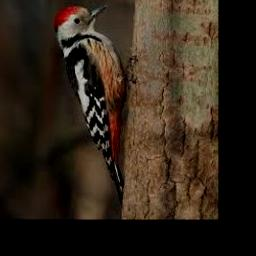Woodpecker: (55, 5, 137, 205)
